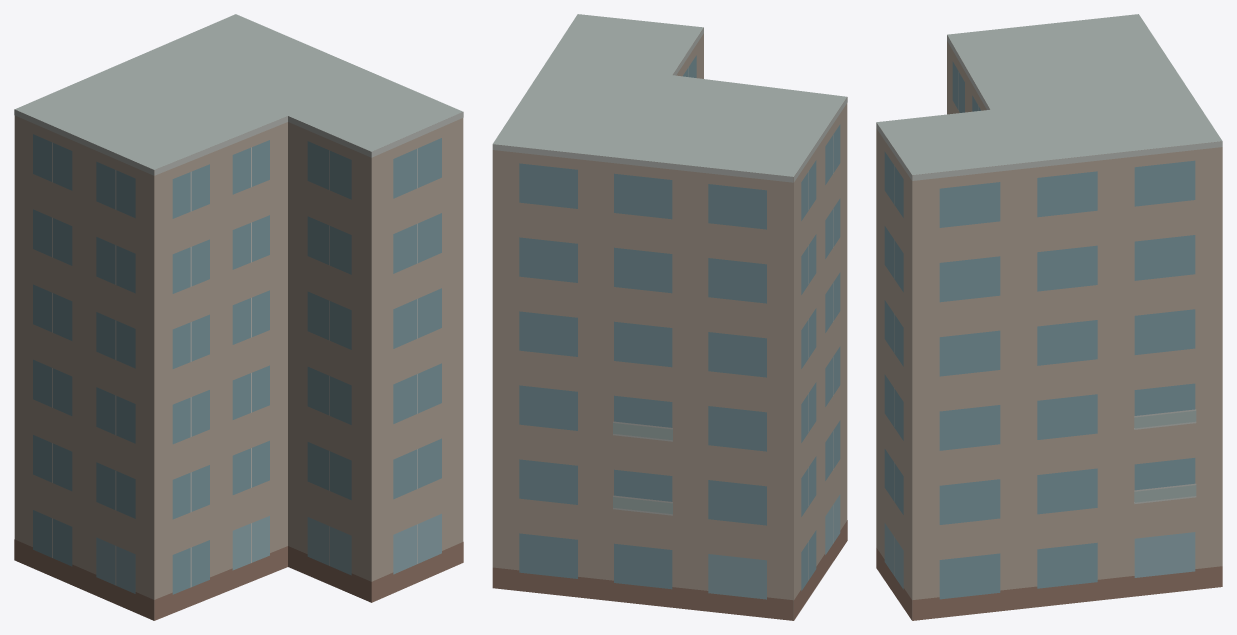
Rendered from survey-upis-32562455.glb.
3 renders of one model, left to right at view 1: azimuth 30°, elevation 25°; view 2: azimuth 150°, elevation 25°; view 3: azimuth 270°, elevation 25°, orthographic.
Visible parts, largest first — view 1: survey-upis-32562455.tmp; view 2: survey-upis-32562455.tmp; view 3: survey-upis-32562455.tmp.
Boxes of the visible parts, <box> form: survey-upis-32562455.tmp: <box>14,14,463,620</box>; survey-upis-32562455.tmp: <box>492,14,847,620</box>; survey-upis-32562455.tmp: <box>876,14,1222,620</box>.
Bounding box in the file's own units: 14.44 × 18.6 × 13.11.
